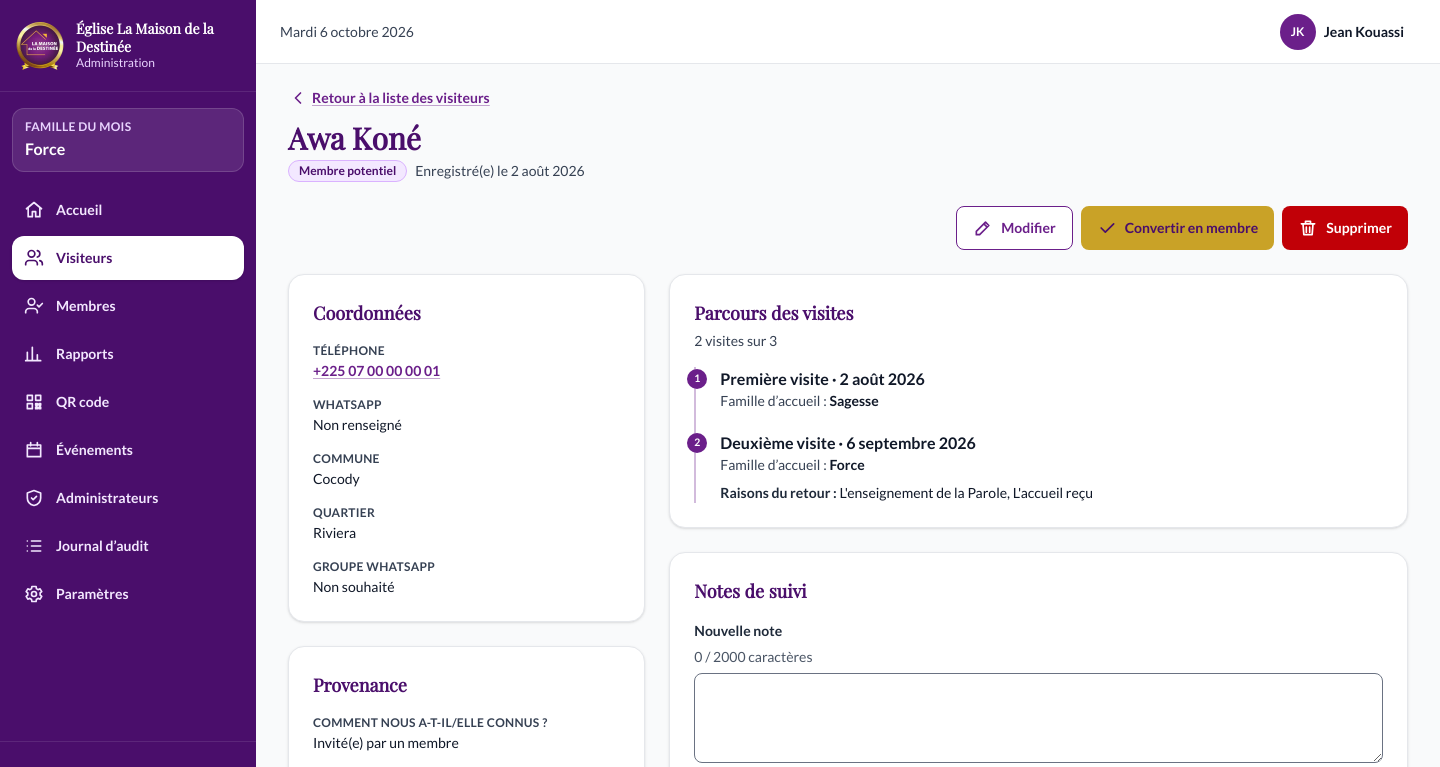
it: fiche visiteur — conversion › affiche le refus du serveur (409 not_eligible) dans le dialogue
Click the button "Convertir en membre".
click(1177, 228)  # box top-left (1081, 206), bottom-right (1274, 250)
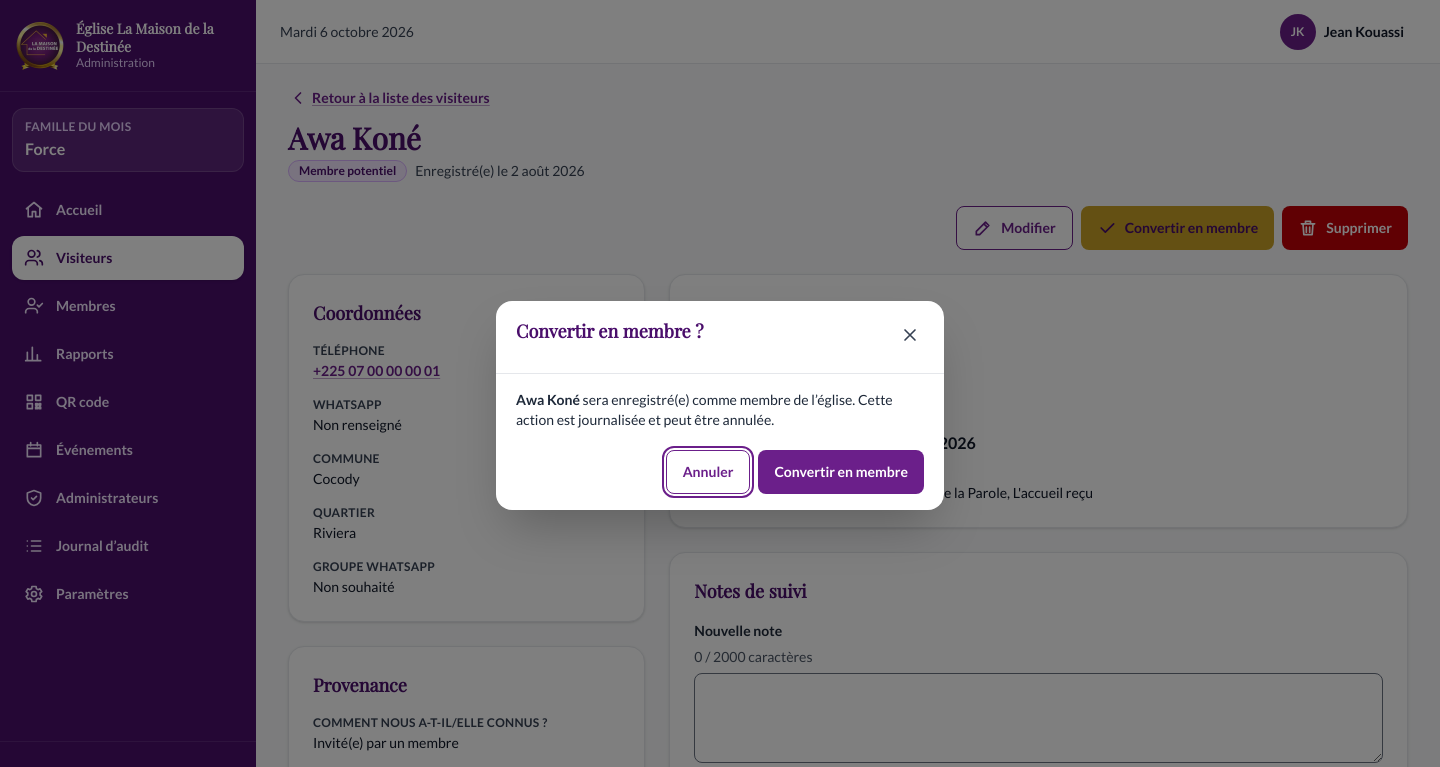
Click the button "Convertir en membre".
click(841, 472)  # box top-left (758, 450), bottom-right (924, 494)
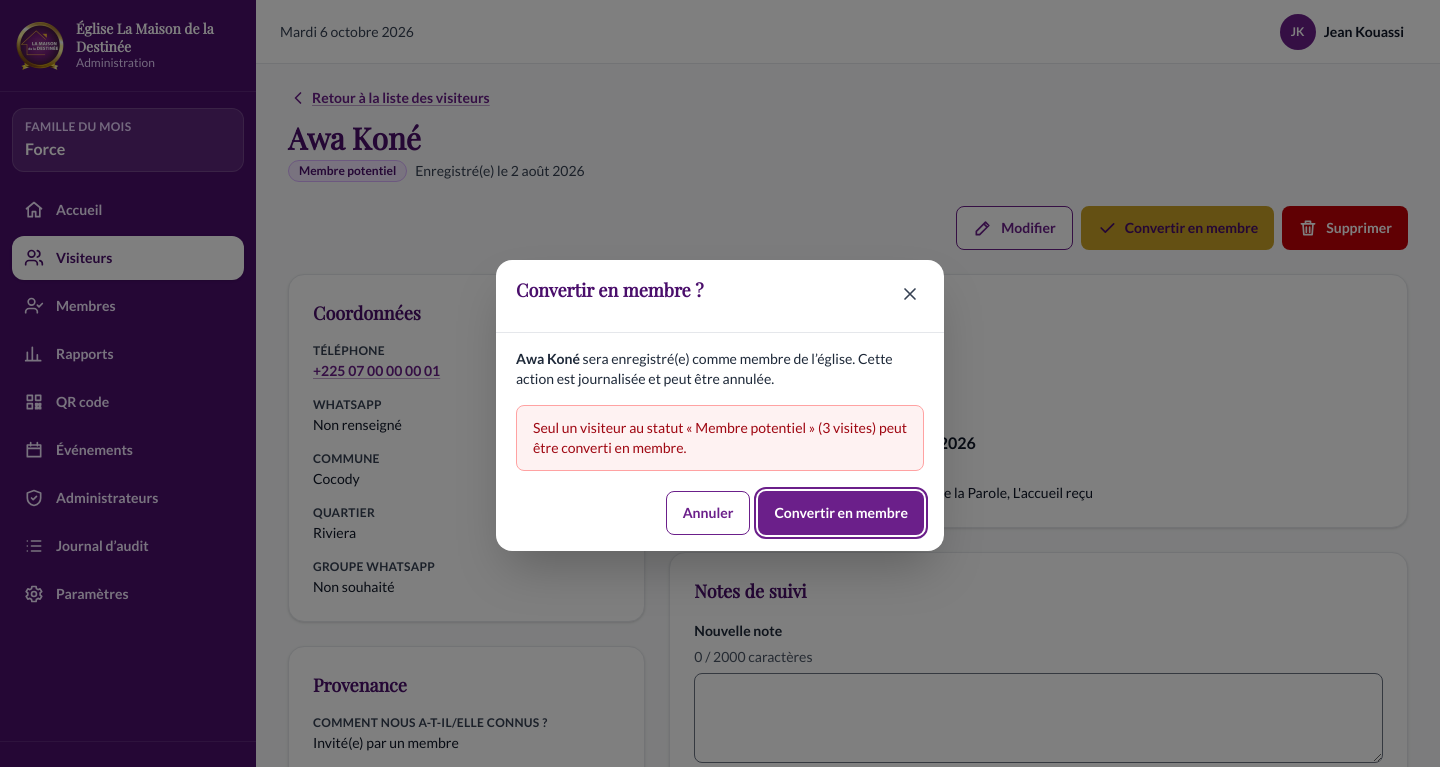
Check: the message shows "Membre potentiel", box top-left (533, 418), bottom-right (907, 456)
